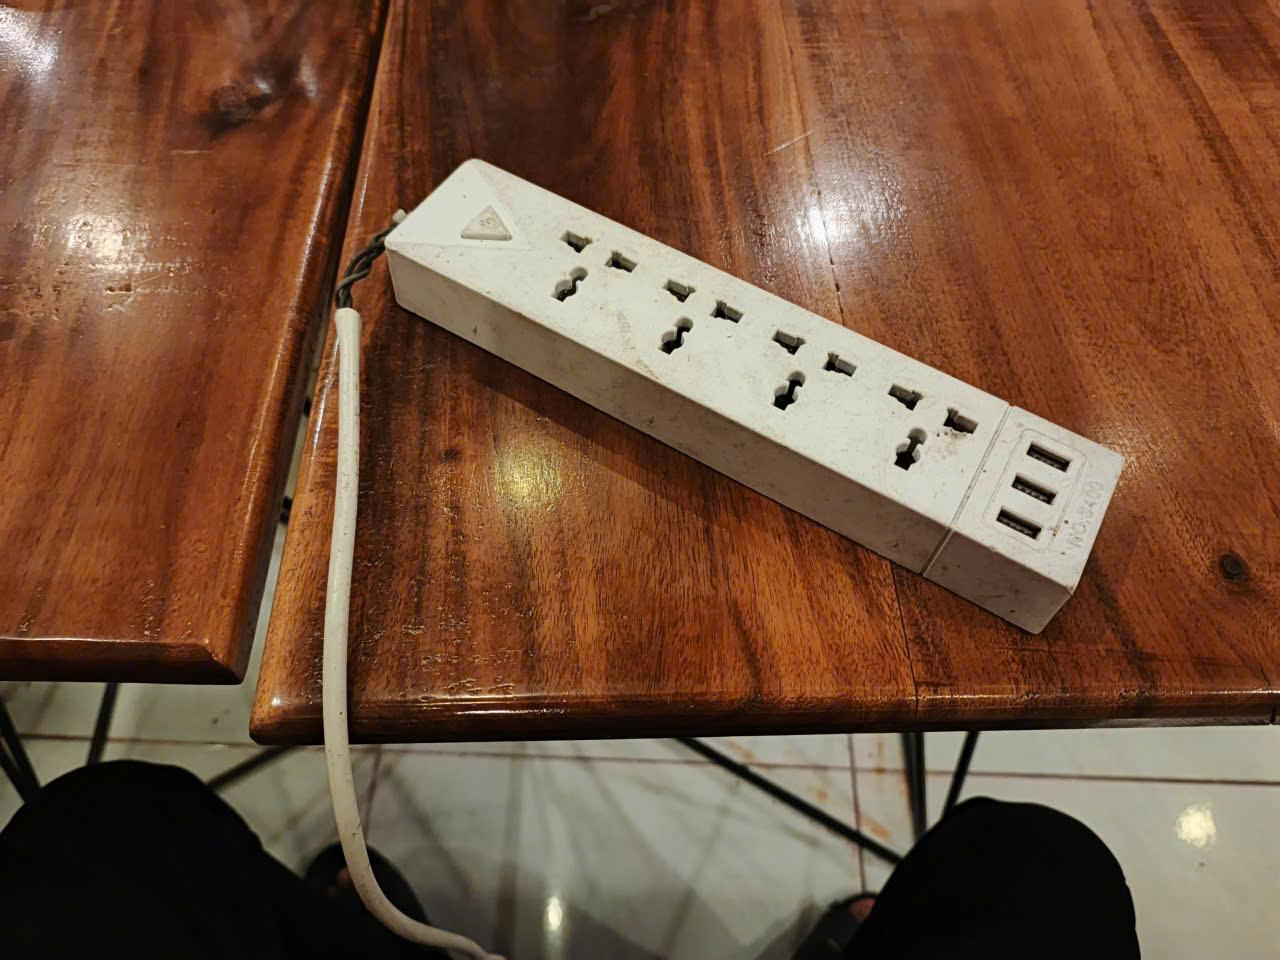Con lai: (384, 154, 1126, 638)
